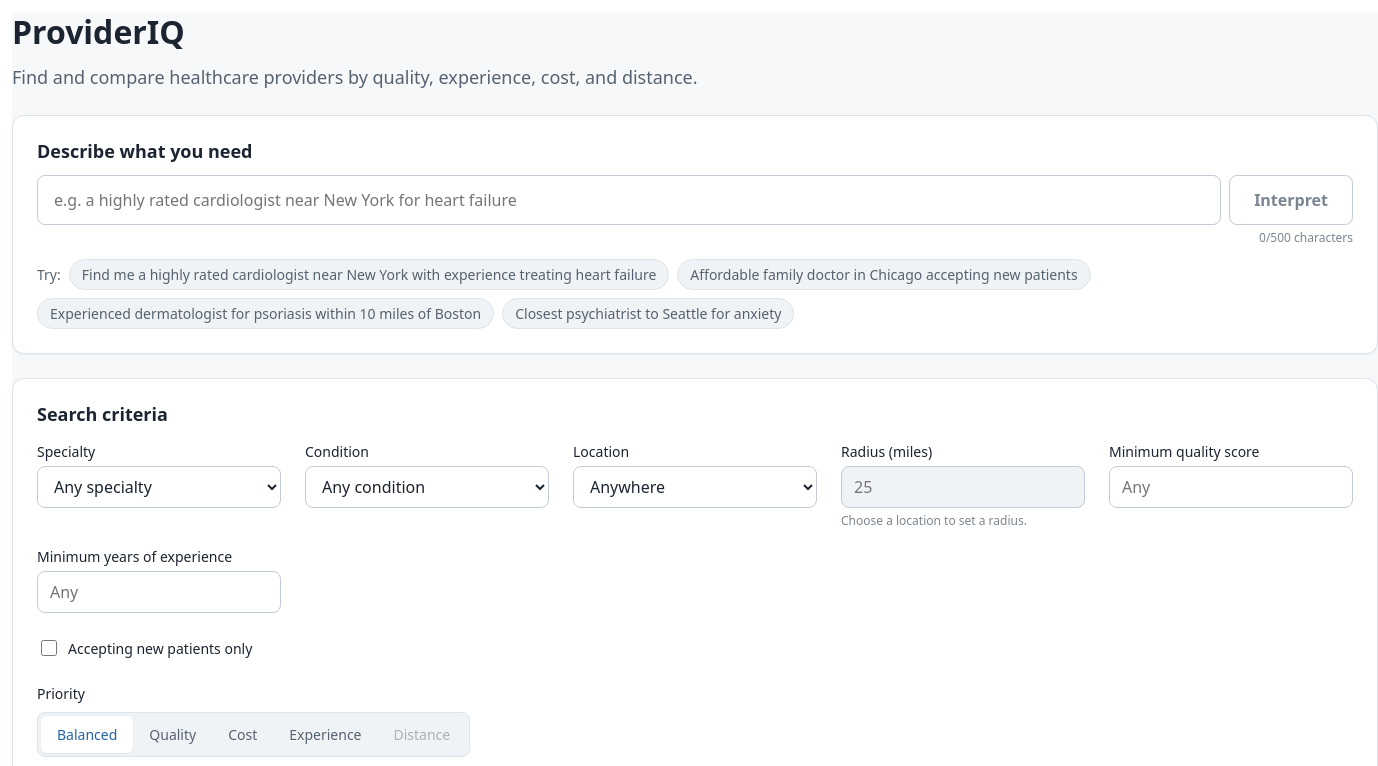
Test: SearchPage › Interpret › counts characters and caps the input at 500
Type "cardiologist" into the field named "Describe the provider you're looking for" at (629, 200), box [37, 174, 1221, 224]
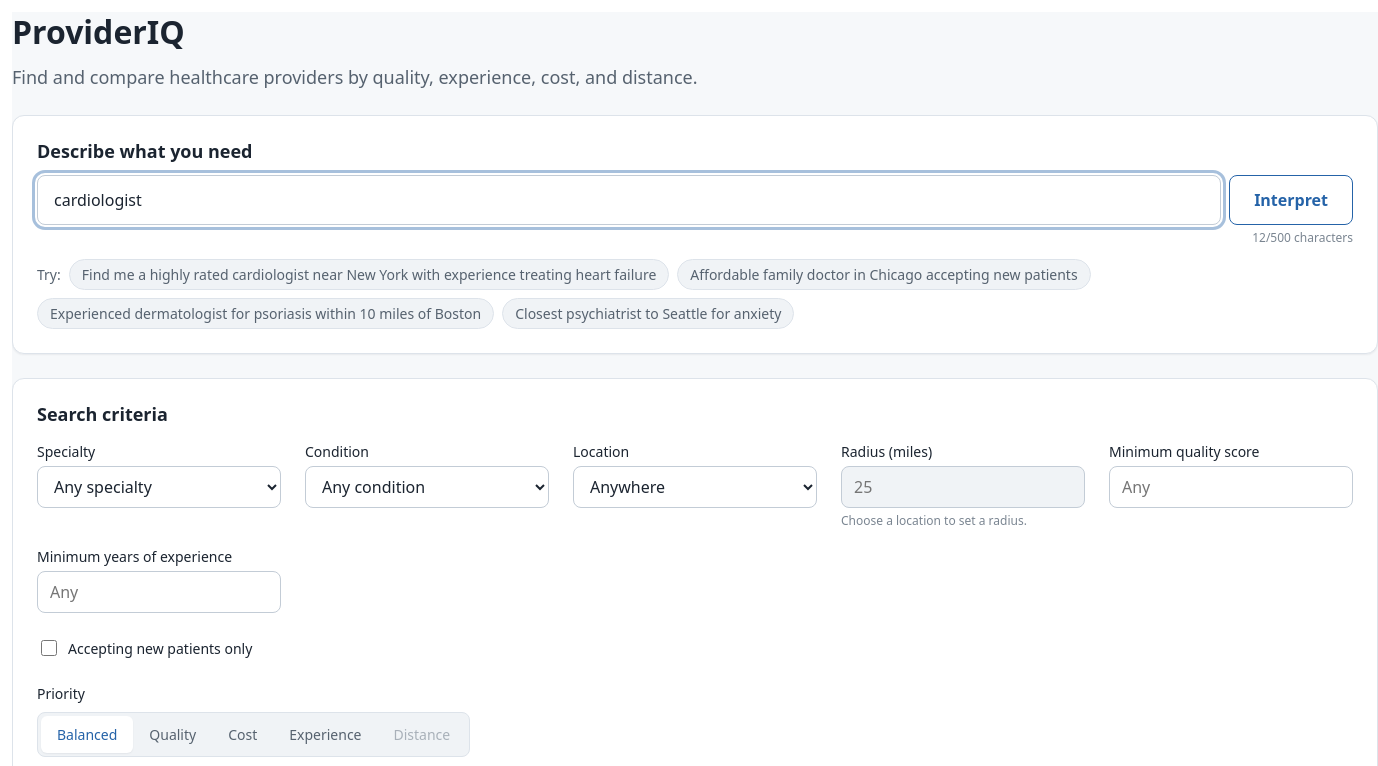
Now the text "12/500 characters" is shown, box [1252, 228, 1353, 246]
